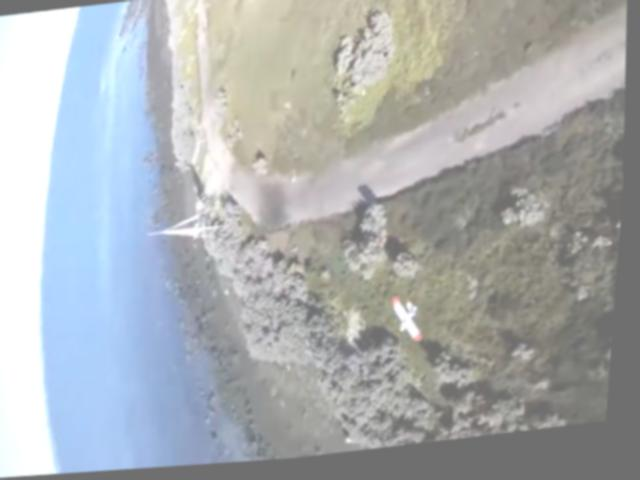uav: (391, 299, 431, 350)
